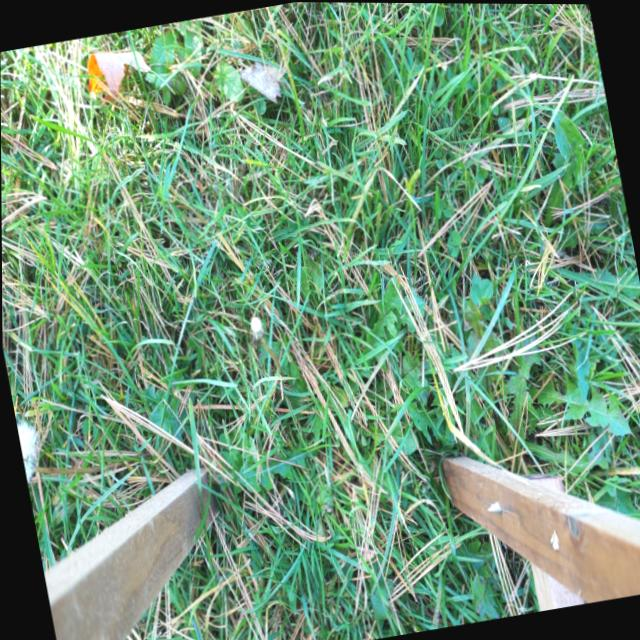base: (266, 357, 291, 394)
